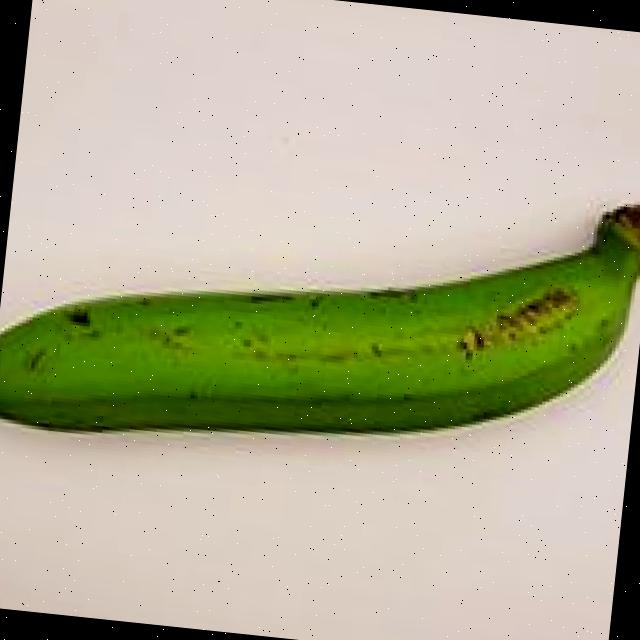Raw: (0, 72, 640, 527)
